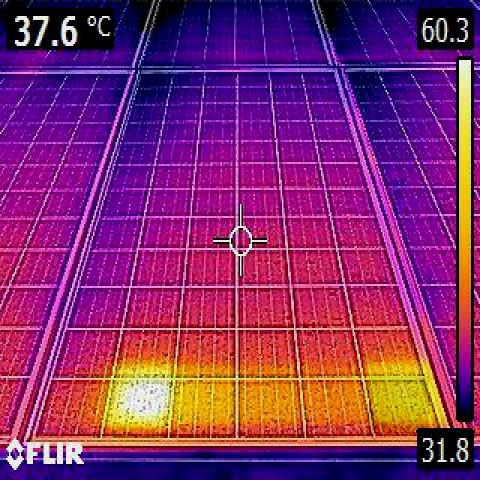fault: (370, 376, 430, 433), (116, 382, 166, 427)
